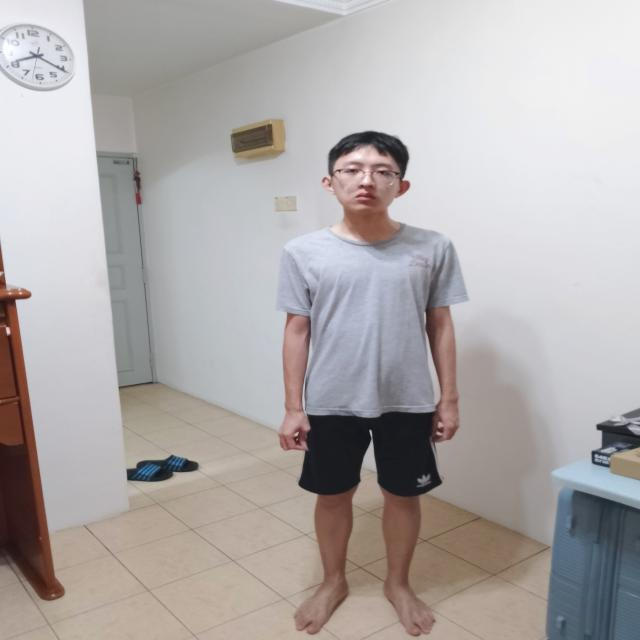person_without_labcoat: (277, 132, 468, 636)
